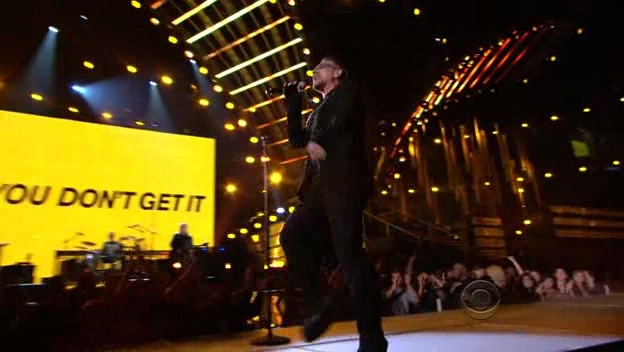person: (292, 59, 364, 237), (289, 59, 361, 237), (295, 59, 367, 237), (292, 56, 364, 234), (292, 62, 364, 240)
target_negative: (582, 22, 624, 260), (92, 59, 124, 279), (550, 259, 588, 298), (420, 221, 572, 226), (128, 241, 156, 267), (505, 335, 575, 338)
